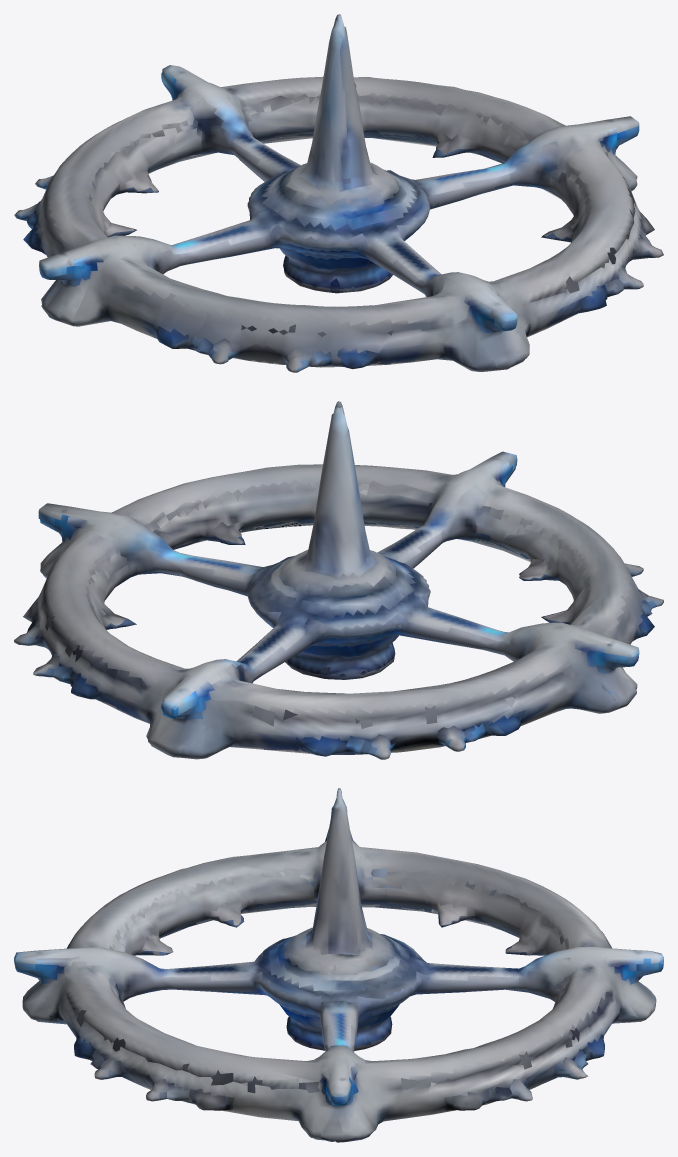
The model's file is alliance_starbase_lod1.glb.
The picture shows the model from 3 angles, top to bottom: view 1: azimuth 30°, elevation 25°; view 2: azimuth 150°, elevation 25°; view 3: azimuth 270°, elevation 25°; orthographic projection. The views are drawn at different scales.
Parts seen in each view (by area): view 1: model; view 2: model; view 3: model.
Part boxes in pixels (left/top/right/bottom): model: left=14, top=14, right=663, bottom=372; model: left=14, top=401, right=663, bottom=759; model: left=14, top=788, right=663, bottom=1142.
Size of the model in its own units: 1.88 by 0.7827 by 1.87.
1 material, 1 textured.
